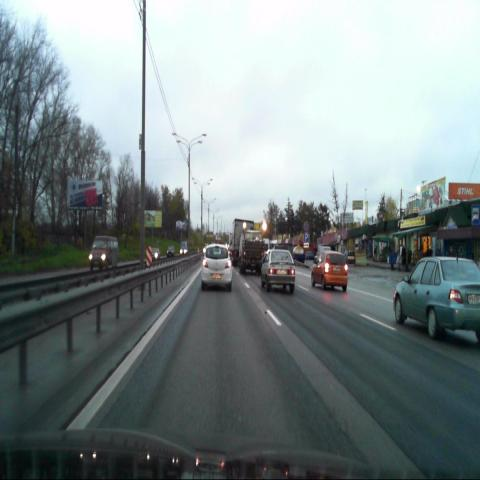5_16: (471, 204, 480, 225)
